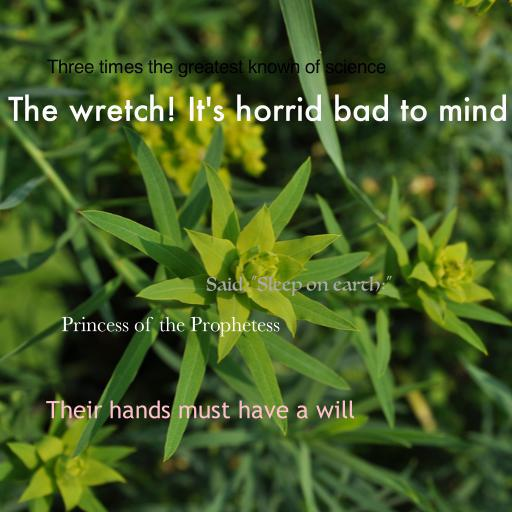Baskerville: (60, 316, 280, 337)
Futura: (8, 94, 508, 123)
Luminari: (206, 275, 392, 297)
SF Pro: (46, 59, 386, 78)
Trebuchet MS: (45, 400, 355, 419)
